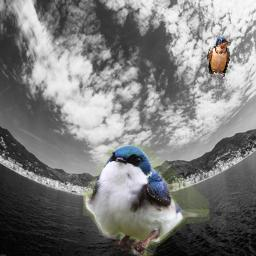Swallow: (83, 144, 210, 256), (207, 37, 231, 79)
